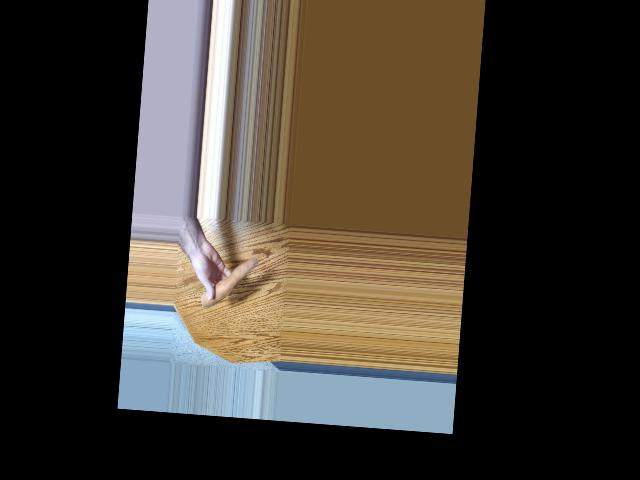sweet_potato: (199, 254, 257, 309)
